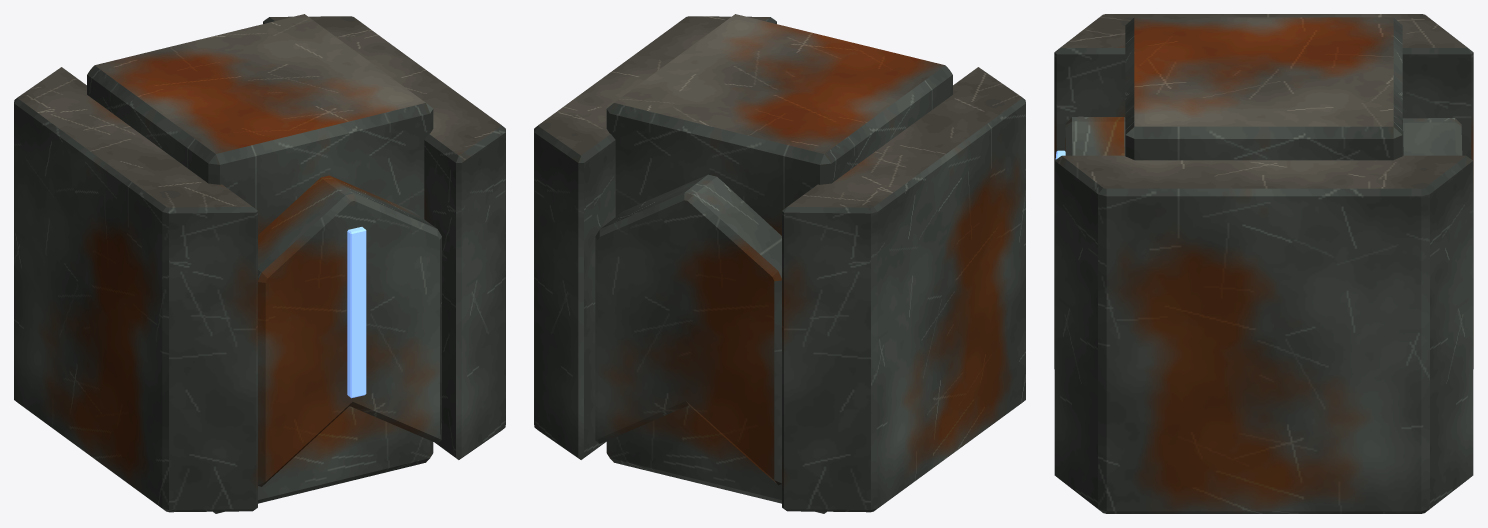
Rendered from R4X_HullBooster_LOD1.glb.
3 views of the same model, side by side, from view 1: azimuth 30°, elevation 25°; view 2: azimuth 150°, elevation 25°; view 3: azimuth 270°, elevation 25° (orthographic). The views are drawn at different scales.
Parts seen in each view (by area): view 1: R4X_HullBooster_LOD1; view 2: R4X_HullBooster_LOD1; view 3: R4X_HullBooster_LOD1.
Part boxes in pixels (<box>): R4X_HullBooster_LOD1: <box>14,14,505,513</box>; R4X_HullBooster_LOD1: <box>534,14,1025,513</box>; R4X_HullBooster_LOD1: <box>1054,14,1473,513</box>.
Size of the model in its own units: 0.52 by 0.52 by 0.5144.
3 materials, 2 textured.
